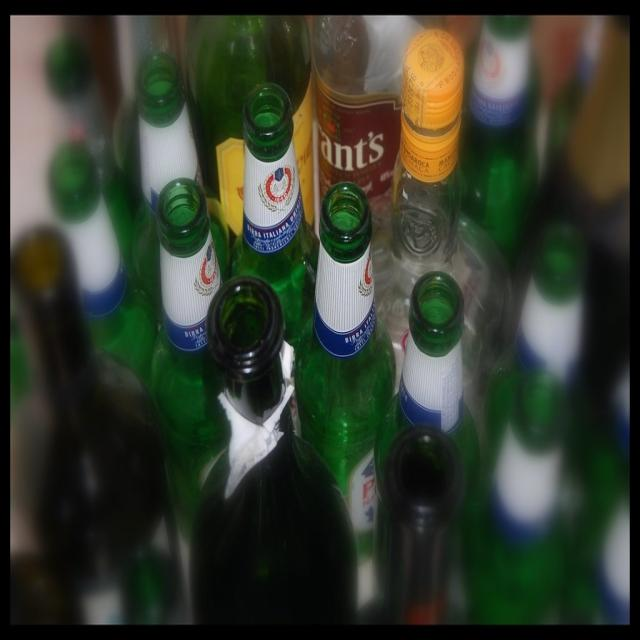Glass: (17, 18, 626, 616)
